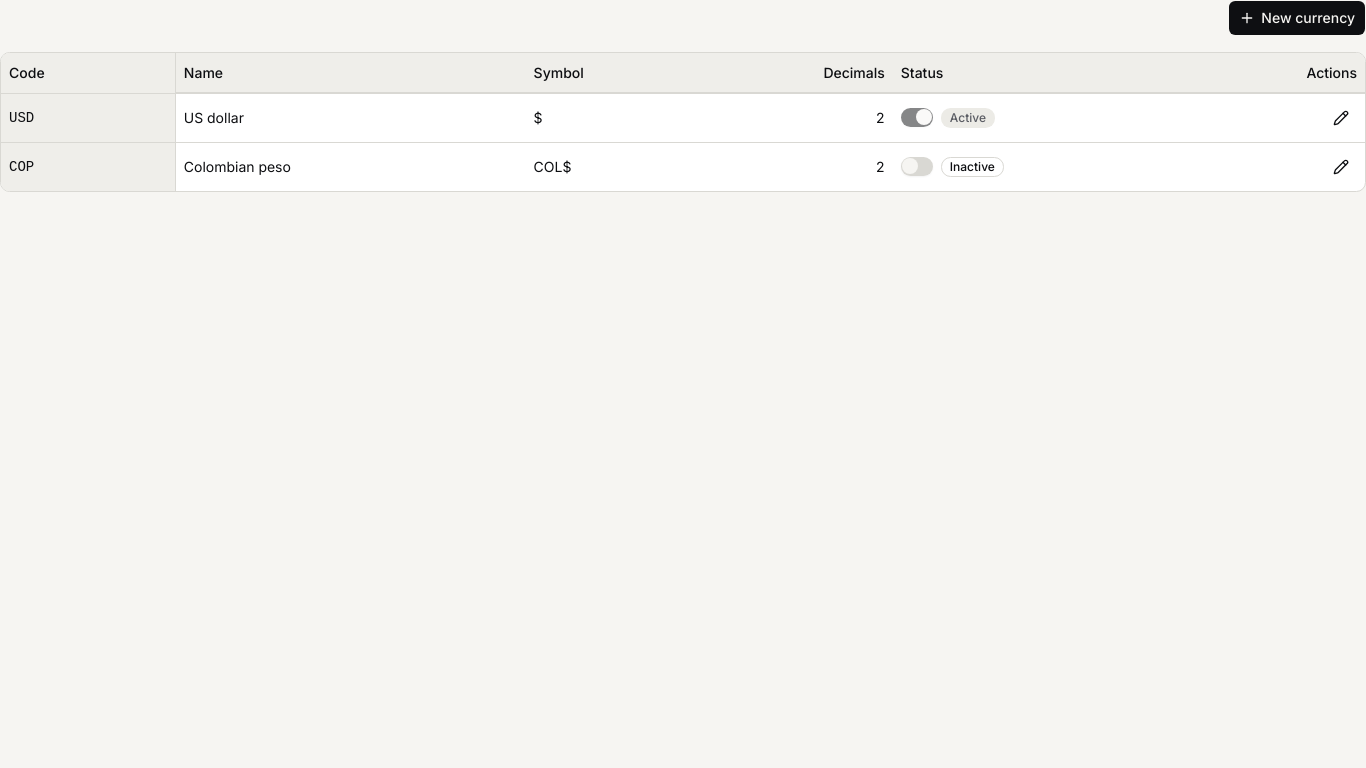
Test: CurrenciesTable › shows a service conflict on the code field and keeps the dialog open
Click the button "New currency": (1297, 18) [1228,0,1365,36]
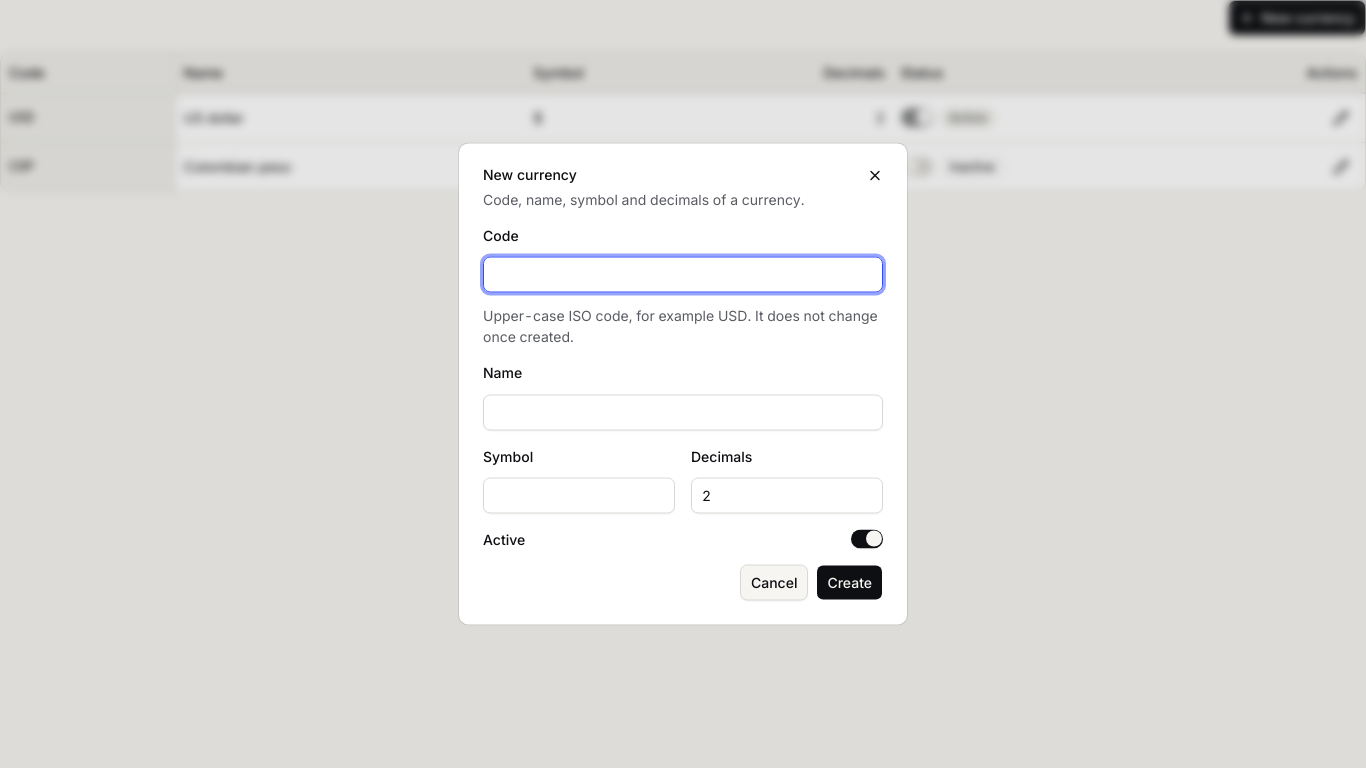
In the field labelled "Code": (683, 275) [483,257,883,293], type "USD"
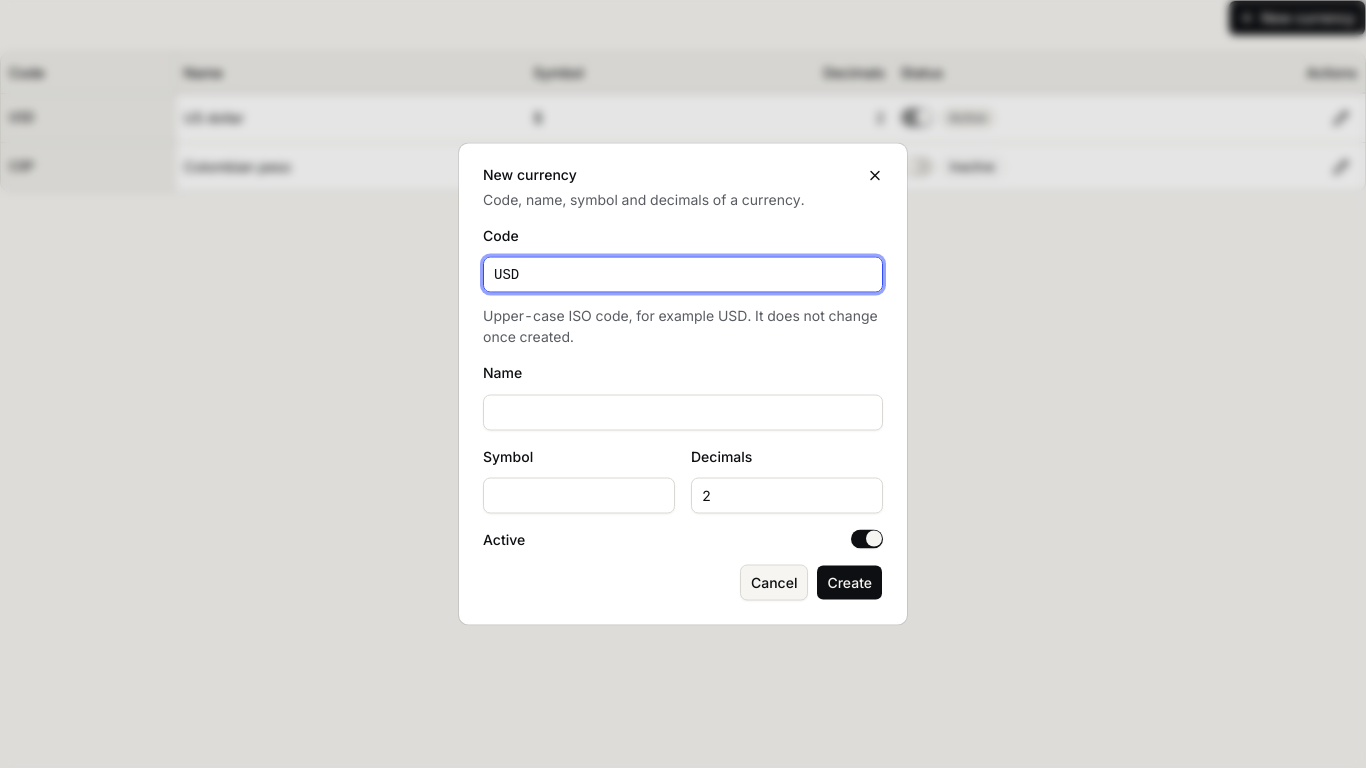
In the field labelled "Name": (683, 412) [483,394,883,430], type "Dup"
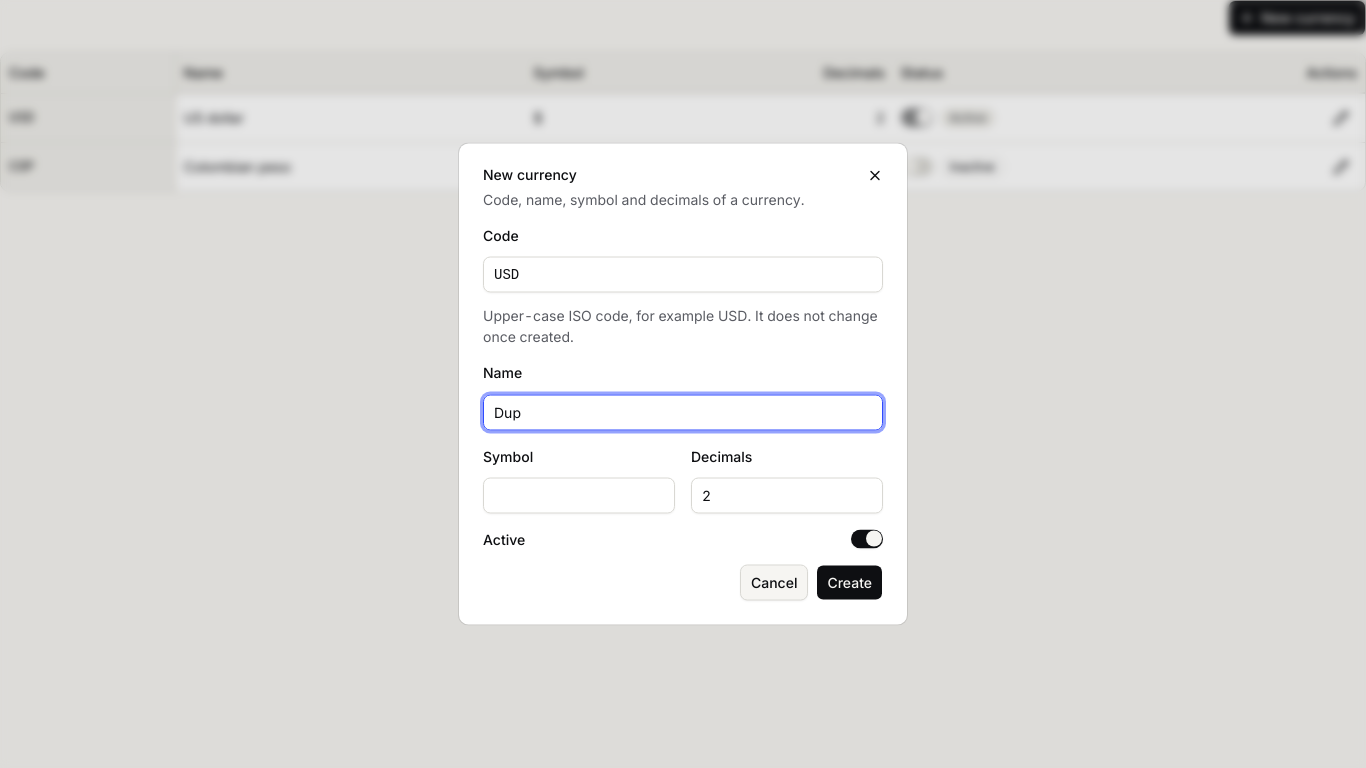
In the field labelled "Symbol": (579, 495) [483,477,675,513], type "$"
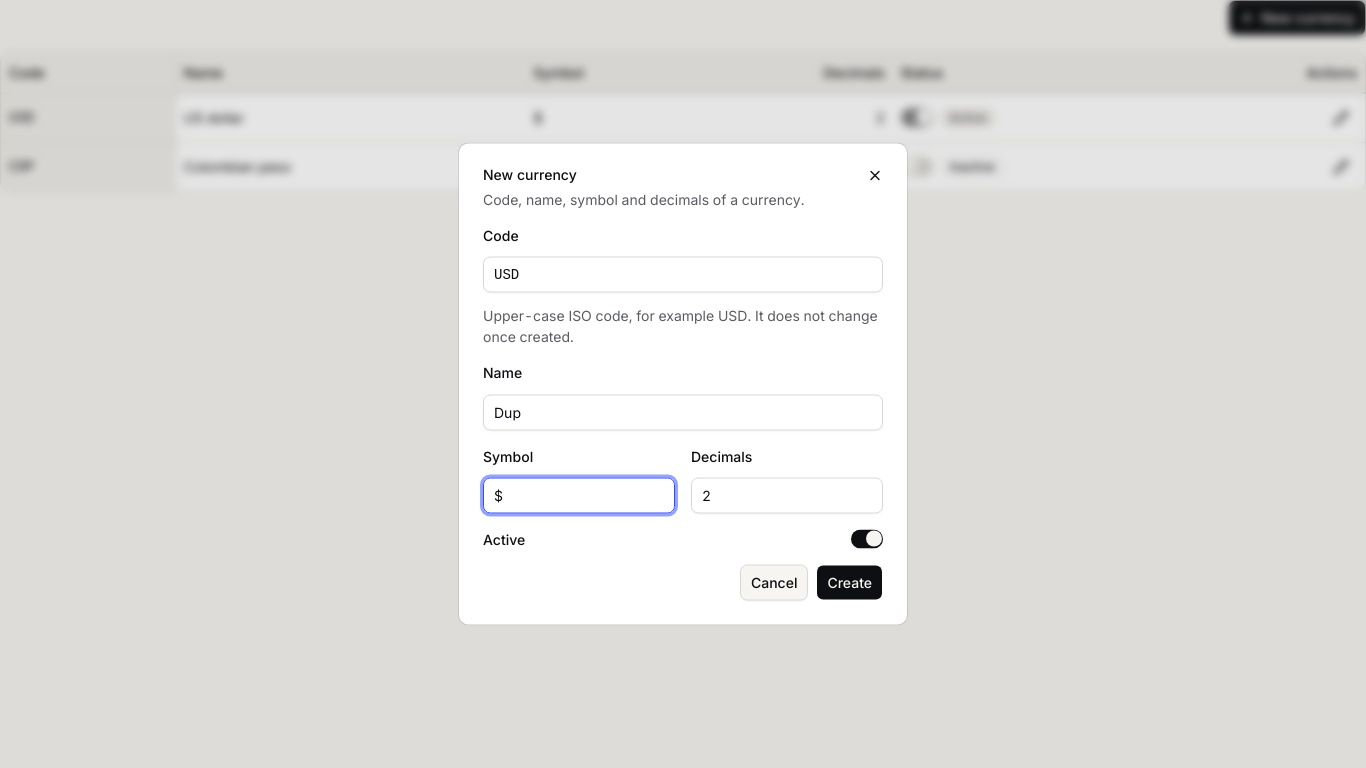
Click the button "Create": (850, 582) [816,564,883,600]
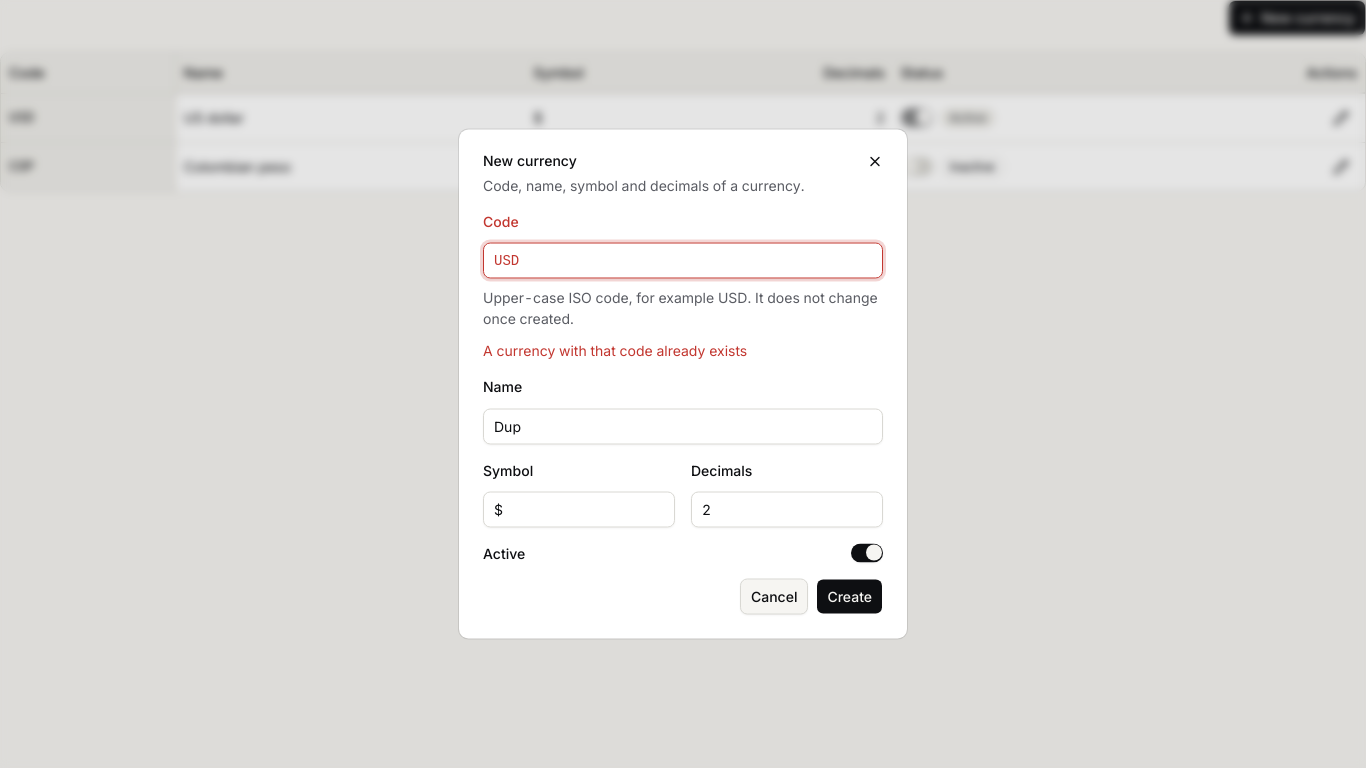
Expected: the dialog is shown, [459,130,907,638]
Expected: the text "A currency with that code already exists" is shown, [483,342,747,359]
